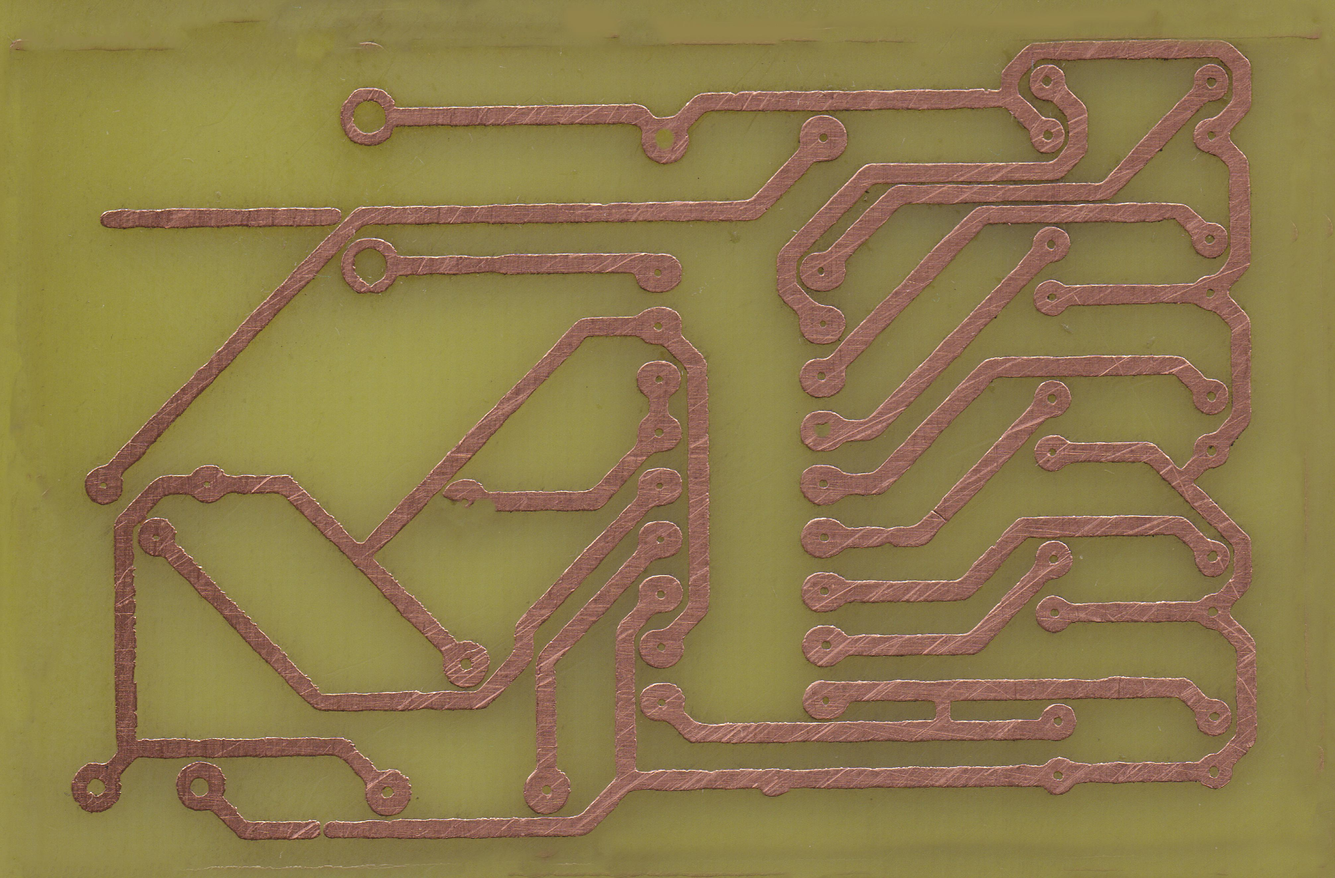missing_hole: (440, 476, 492, 526)
mouse_bite: (877, 522, 900, 553)
open_circuit: (302, 816, 346, 844)
short: (922, 676, 962, 743)
spur: (754, 766, 792, 799)
spurious_copper: (94, 203, 345, 233)
